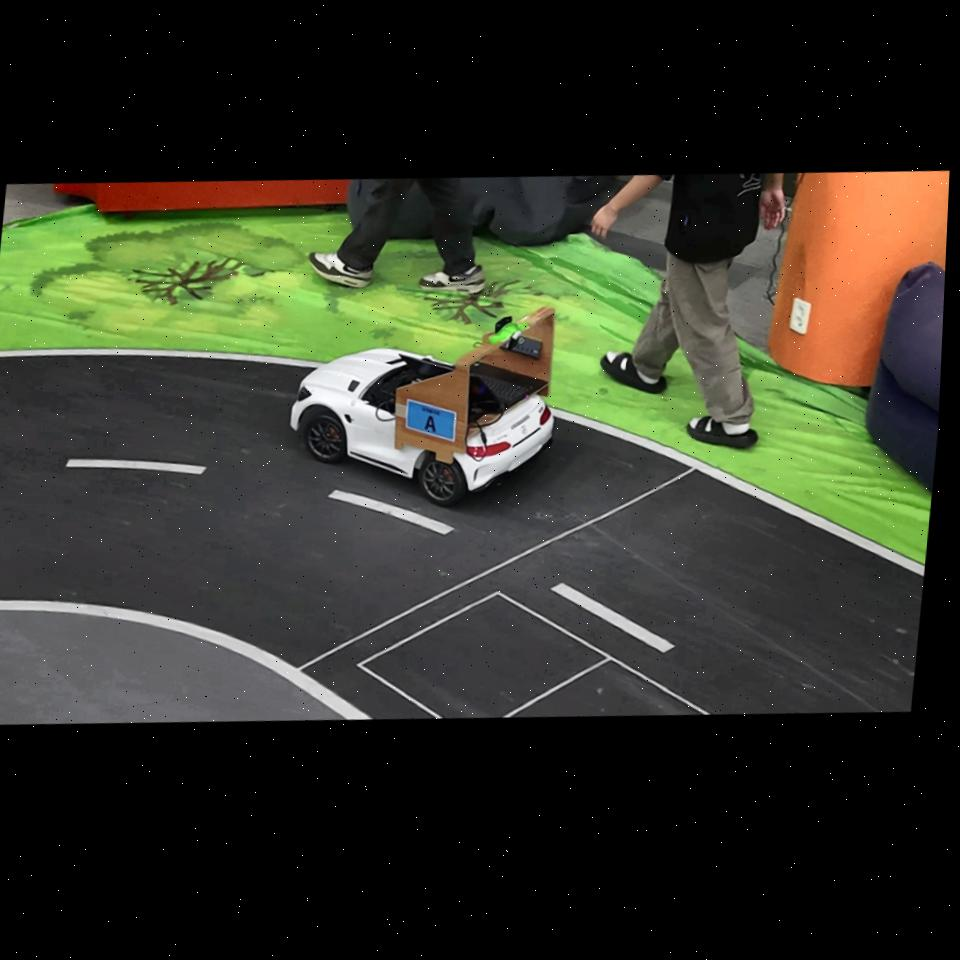broken_line: (552, 584, 674, 653), (328, 490, 454, 535), (65, 459, 206, 475)
